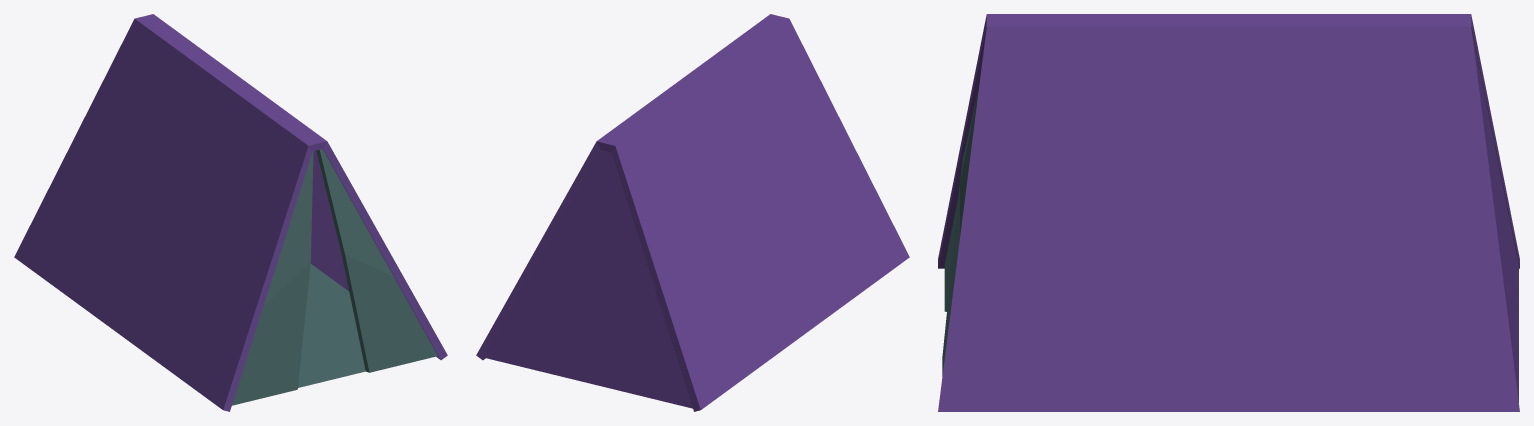
Rendered from Tent_recolour.fbx.
The picture shows the model from 3 angles, left to right: view 1: azimuth 30°, elevation 25°; view 2: azimuth 150°, elevation 25°; view 3: azimuth 270°, elevation 25°; orthographic projection. The views are drawn at different scales.
Parts seen in each view (by area): view 1: Roof, Cube; view 2: Roof, Cube.001; view 3: Roof, Cube.001, Cube.
Part boxes in pixels (x1=…): Roof: x1=14, y1=14, x2=447, y2=411; Cube: x1=232, y1=149, x2=437, y2=405; Roof: x1=476, y1=14, x2=909, y2=411; Cube.001: x1=484, y1=149, x2=692, y2=408; Roof: x1=938, y1=14, x2=1519, y2=411; Cube.001: x1=1472, y1=32, x2=1518, y2=402; Cube: x1=942, y1=86, x2=979, y2=375.
Bounding box in the file's own units: 214 × 209 × 345.
